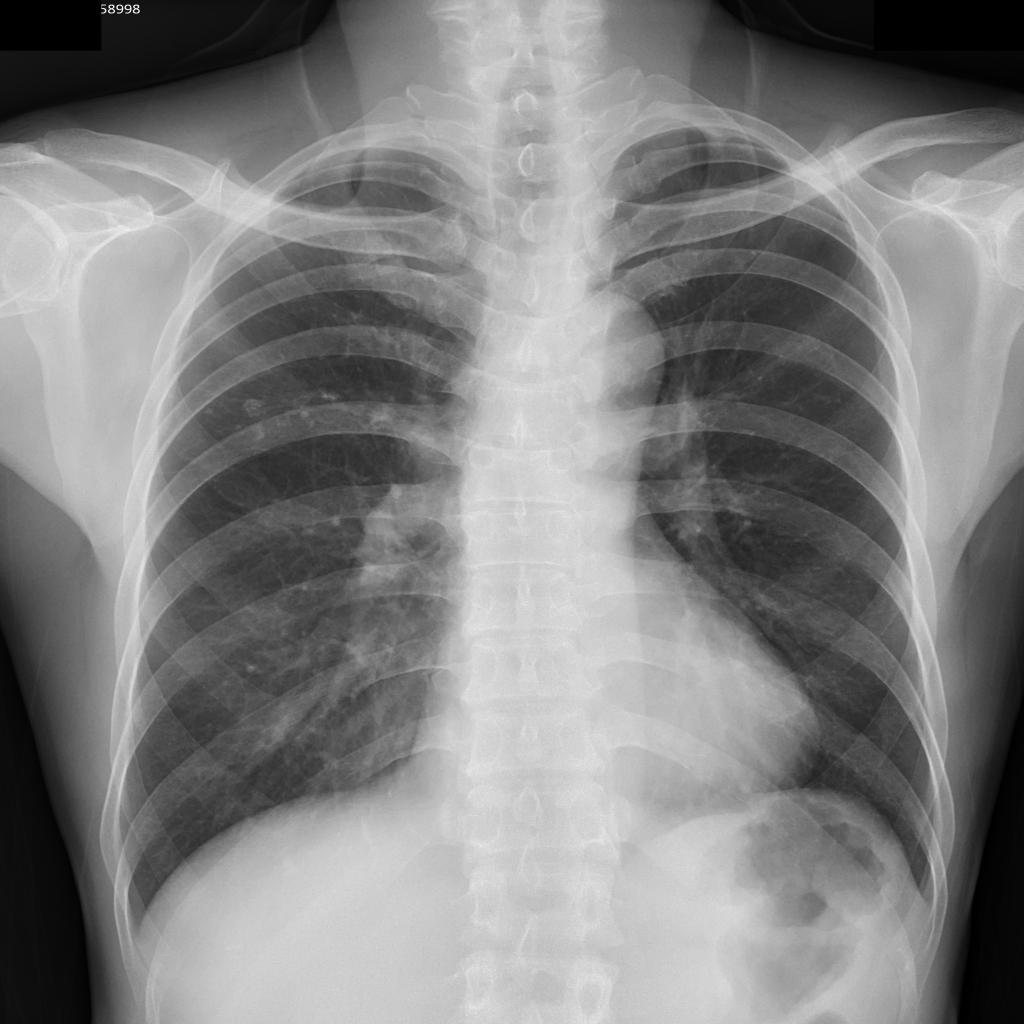Nodule: (240, 396, 267, 416), (206, 410, 215, 417)
